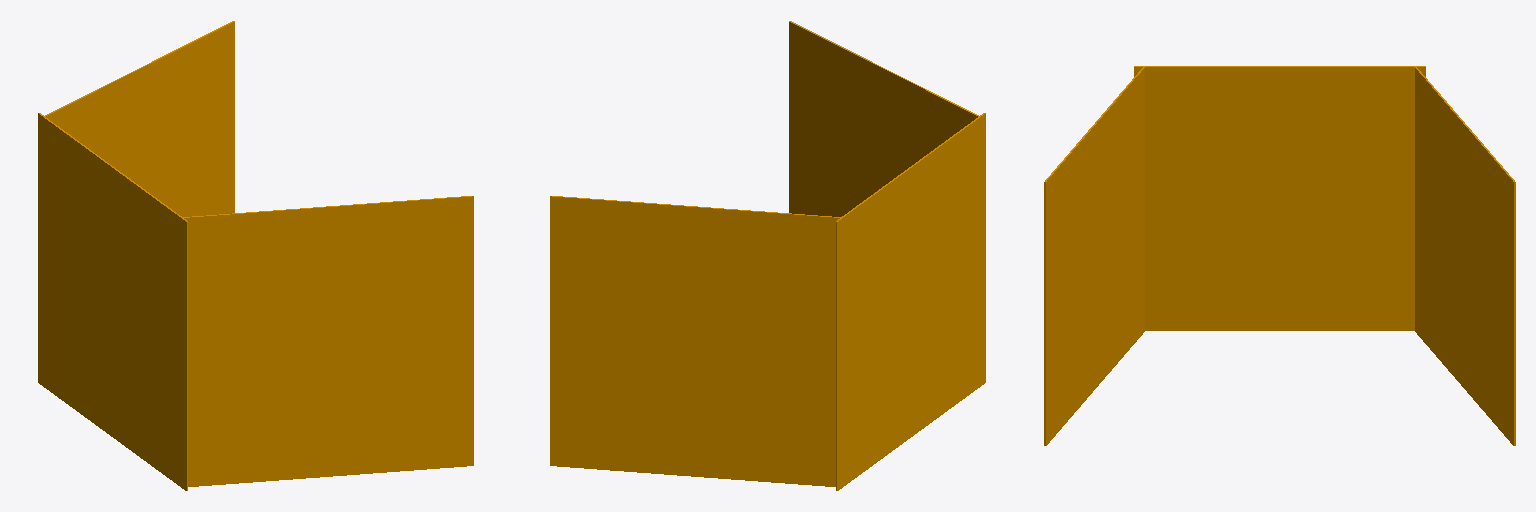
The robot description file, URDF, robot "background":
<?xml version="1.0"?>
<robot name="background">
    <link name="background">
        <visual>
            <geometry>
                <mesh filename="../mesh/background.obj" scale="1 1 1"/>
            </geometry>
        </visual>
    </link>
</robot>

--- Facts derived from the render (not from the file) ---
3 views of the same robot in one strip: view 1: azimuth 30°, elevation 25°; view 2: azimuth 150°, elevation 25°; view 3: azimuth 270°, elevation 25° (orthographic).
Robot: background — 1 links, 0 joints (none); root link background; default pose: every joint at zero.
Visible links, largest first — view 1: background; view 2: background; view 3: background.
Boxes of the visible links, box(x1,y1,x2,y2) form: background: box(38, 21, 473, 490); background: box(550, 21, 985, 490); background: box(1044, 66, 1515, 445).
Bounding box of the posed robot: 1.41 × 2.42 × 1.5 m (x, y, z).
1 mesh visuals loaded from 1 distinct referenced files (1 OBJ).